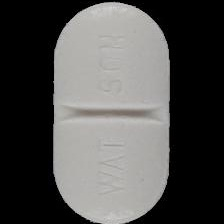0591-0406: (0, 0, 224, 224)
